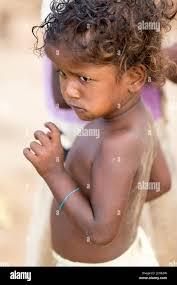Human: (23, 8, 165, 259)
